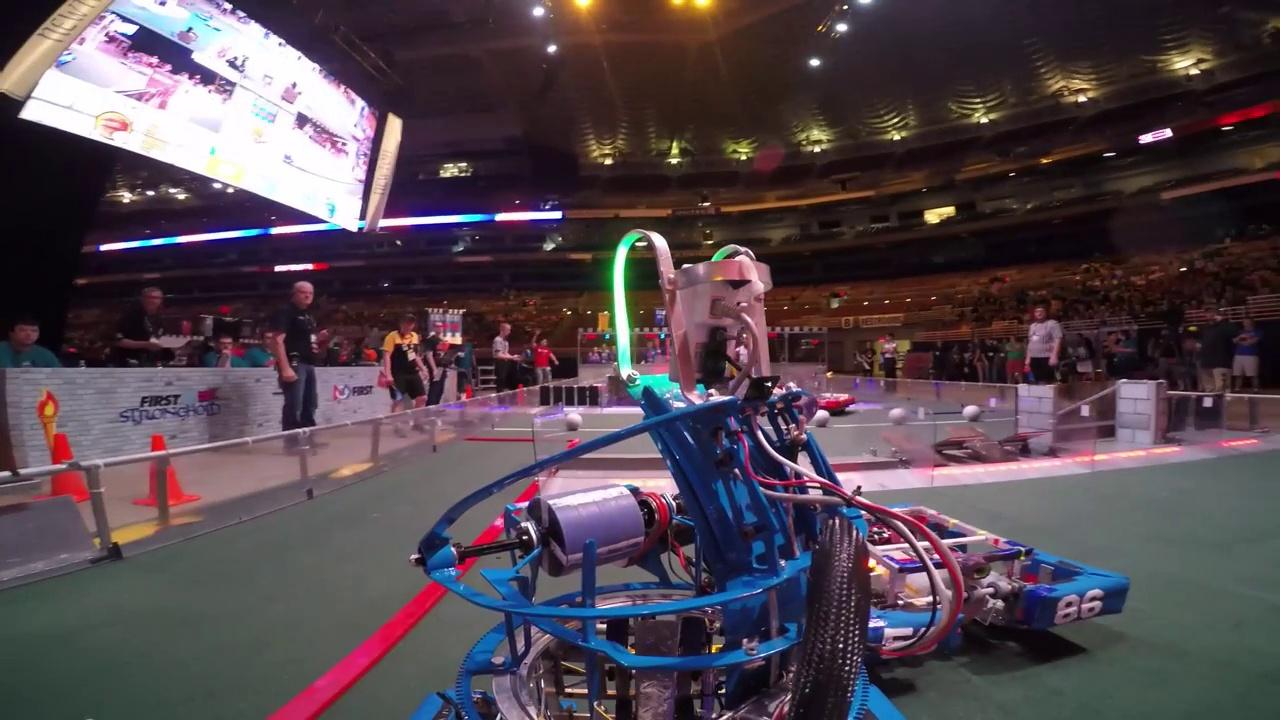robot: (735, 483, 1134, 680)
